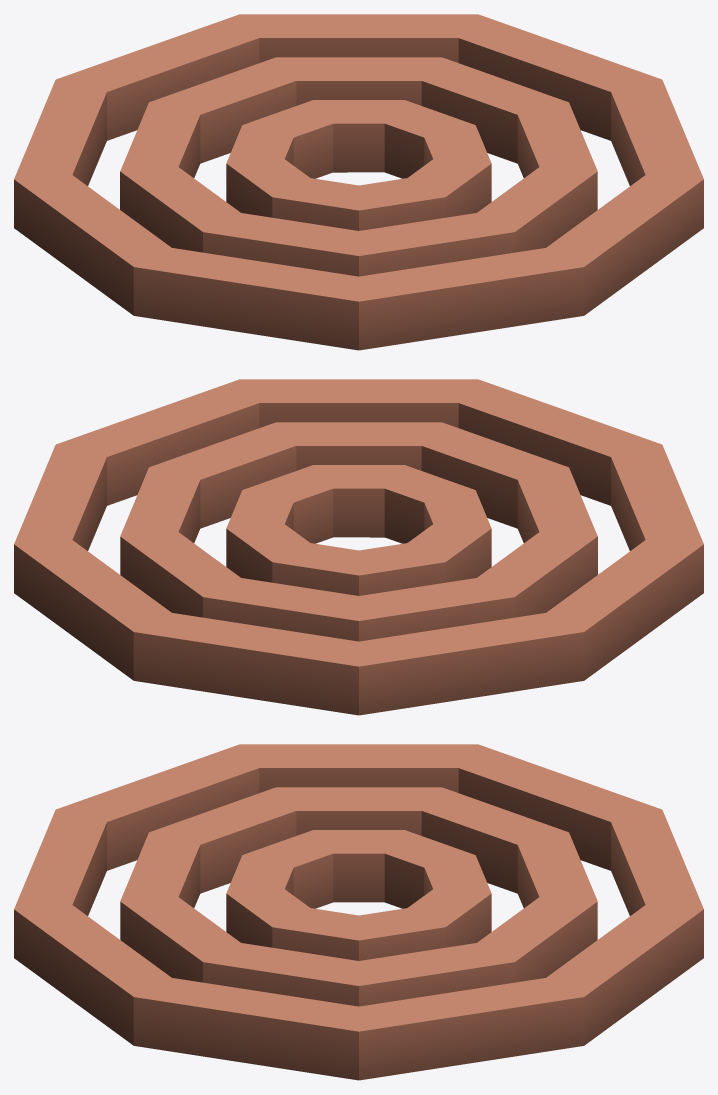
File: copper-cable.glb
3 renders of one model, top to bottom at view 1: azimuth 30°, elevation 25°; view 2: azimuth 150°, elevation 25°; view 3: azimuth 270°, elevation 25°, orthographic.
Visible parts, largest first — view 1: copper-cable; view 2: copper-cable; view 3: copper-cable.
Boxes of the visible parts, x1=… form: copper-cable: x1=14, y1=14, x2=703, y2=350; copper-cable: x1=14, y1=379, x2=703, y2=715; copper-cable: x1=14, y1=744, x2=703, y2=1080.
Bounding box in the file's own units: 0.2522 × 0.02 × 0.2561.
